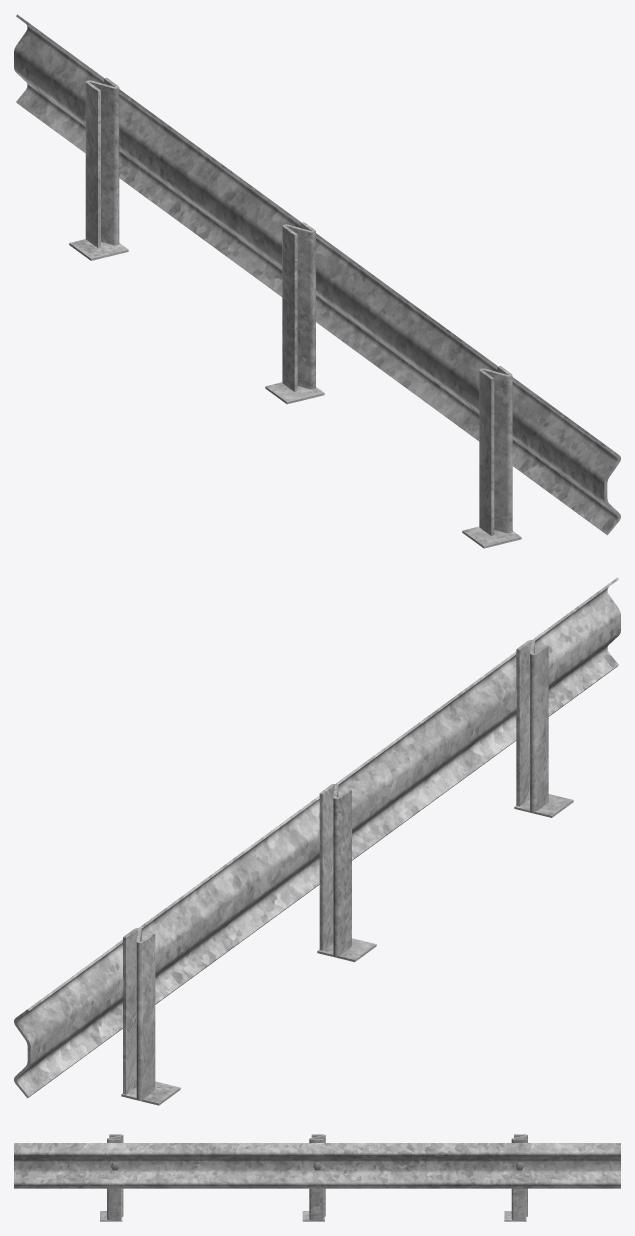
Rendered from guardrail_road.glb.
3 views of the same model, one above another, from view 1: azimuth 30°, elevation 25°; view 2: azimuth 150°, elevation 25°; view 3: azimuth 270°, elevation 25° (orthographic). The views are drawn at different scales.
Parts seen in each view (by area): view 1: Cube; view 2: Cube; view 3: Cube.
Boxes of the visible parts, x1,y1,x2,y2 form: Cube: [14, 14, 620, 548]; Cube: [14, 577, 620, 1105]; Cube: [14, 1134, 620, 1221].
Size of the model in its own units: 0.523 by 1.49 by 10.04.
Materials: 1 (1 with a texture image).
